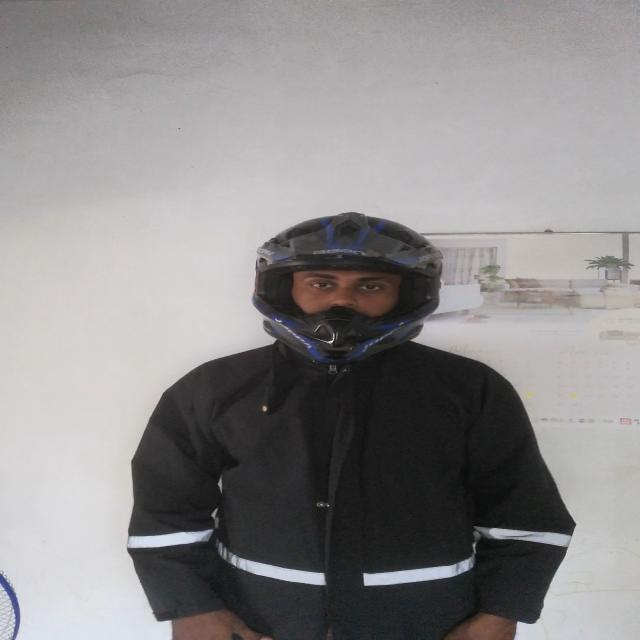Helmet_Wearer: (231, 206, 455, 380)
Jacket_Wearer: (126, 333, 576, 640)
